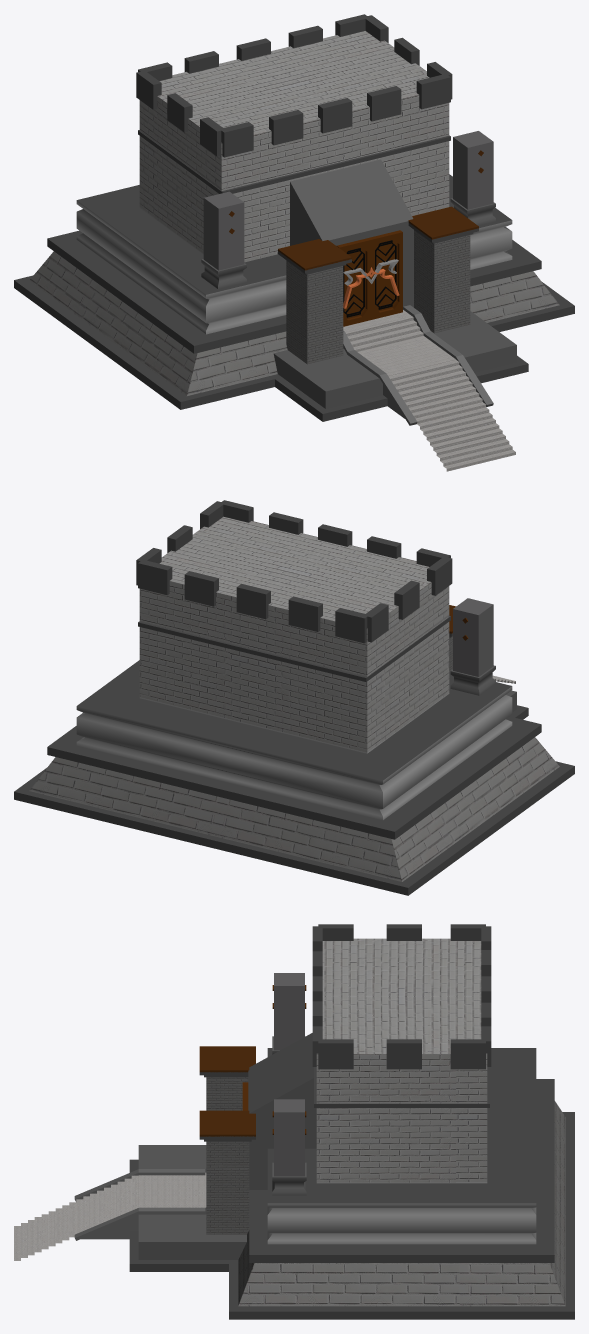
3 renders of one model, top to bottom at view 1: azimuth 30°, elevation 25°; view 2: azimuth 150°, elevation 25°; view 3: azimuth 270°, elevation 25°, orthographic. The views are drawn at different scales.
Parts seen in each view (by area): view 1: Box001; view 2: Box001; view 3: Box001.
Boxes of the visible parts, x1,y1,x2,y2 form: Box001: (14,14,574,471); Box001: (14,500,574,895); Box001: (14,924,574,1319).
Bounding box in the file's own units: 554 × 340 × 658.
Materials: 1 (1 with a texture image).
